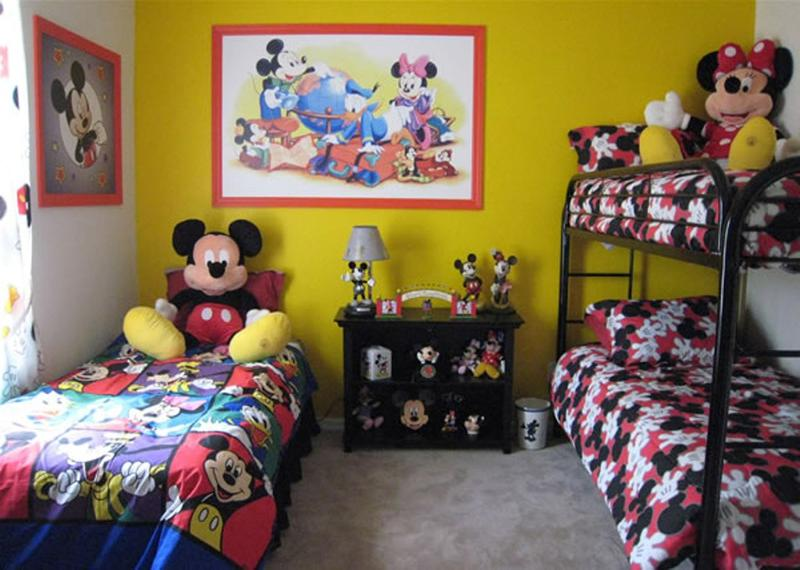Mickey: (172, 215, 263, 297)
